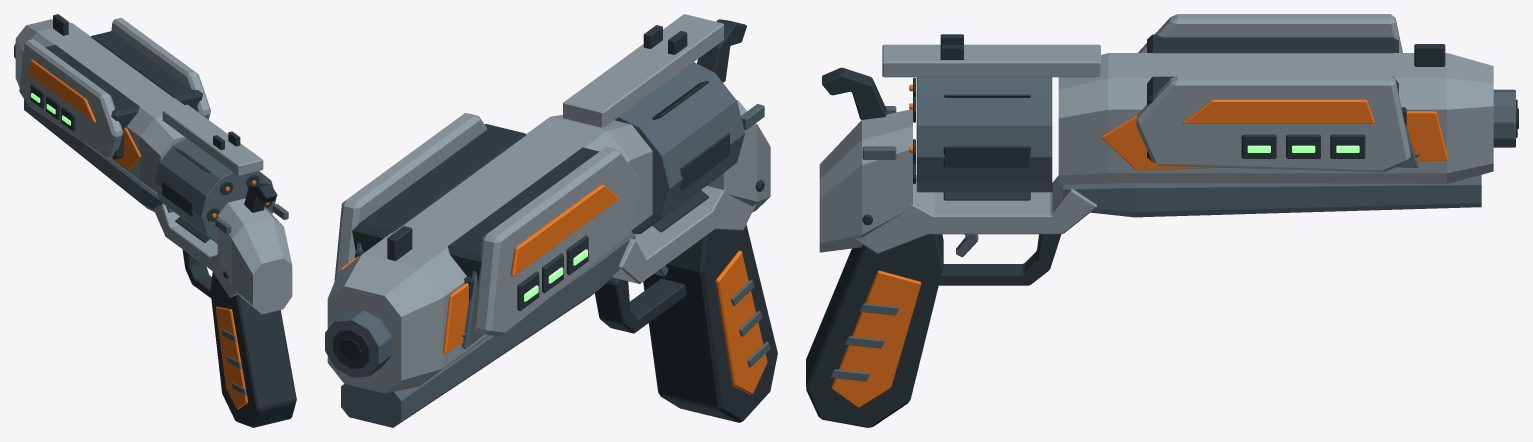
The model's file is magnum.glb.
3 views of the same model, side by side, from view 1: azimuth 30°, elevation 25°; view 2: azimuth 150°, elevation 25°; view 3: azimuth 270°, elevation 25° (orthographic). The views are drawn at different scales.
Parts seen in each view (by area): view 1: Body | 01 | ceramic gray receiver, Body | 03 | graphite steel, Body | 02 | machined edge metal, Body | 04 | burnt orange enamel; view 2: Body | 01 | ceramic gray receiver, Body | 03 | graphite steel, Body | 02 | machined edge metal, Body | 04 | burnt orange enamel; view 3: Body | 01 | ceramic gray receiver, Body | 02 | machined edge metal, Body | 03 | graphite steel, Body | 04 | burnt orange enamel.
Boxes of the visible parts, <box> form: Body | 01 | ceramic gray receiver: <box>15,17,292,314</box>; Body | 03 | graphite steel: <box>30,14,296,427</box>; Body | 02 | machined edge metal: <box>14,43,288,395</box>; Body | 04 | burnt orange enamel: <box>20,59,269,409</box>; Body | 01 | ceramic gray receiver: <box>327,14,770,393</box>; Body | 03 | graphite steel: <box>333,19,777,422</box>; Body | 02 | machined edge metal: <box>325,62,770,427</box>; Body | 04 | burnt orange enamel: <box>340,184,767,394</box>; Body | 01 | ceramic gray receiver: <box>819,14,1493,253</box>; Body | 02 | machined edge metal: <box>830,77,1515,381</box>; Body | 03 | graphite steel: <box>806,34,1517,427</box>; Body | 04 | burnt orange enamel: <box>832,84,1448,407</box>.
Size of the model in its own units: 0.124 by 0.2831 by 0.4889.
